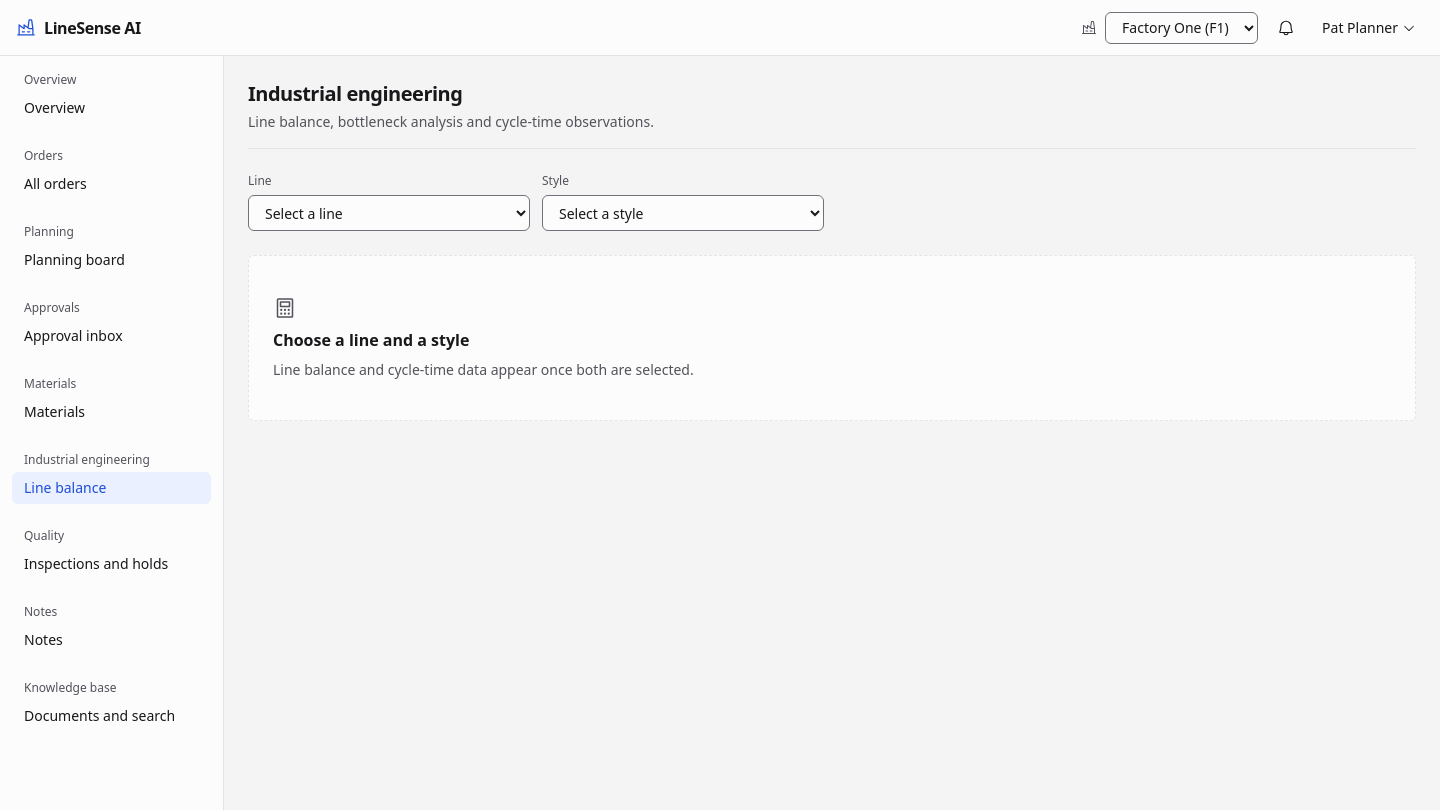
Test: ObservationForm (via IEPage) › records an observation with an Idempotency-Key and lists it for outlier marking
This screenshot has width=1440, height=810.
Select "Line 1 (L1)" in the dropdown labelled "Line" at (389, 213), box [248,195,530,231]
Select "Crew tee (STY-1)" in the dropdown labelled "Style" at (683, 213), box [542,195,824,231]
(page scrolled)
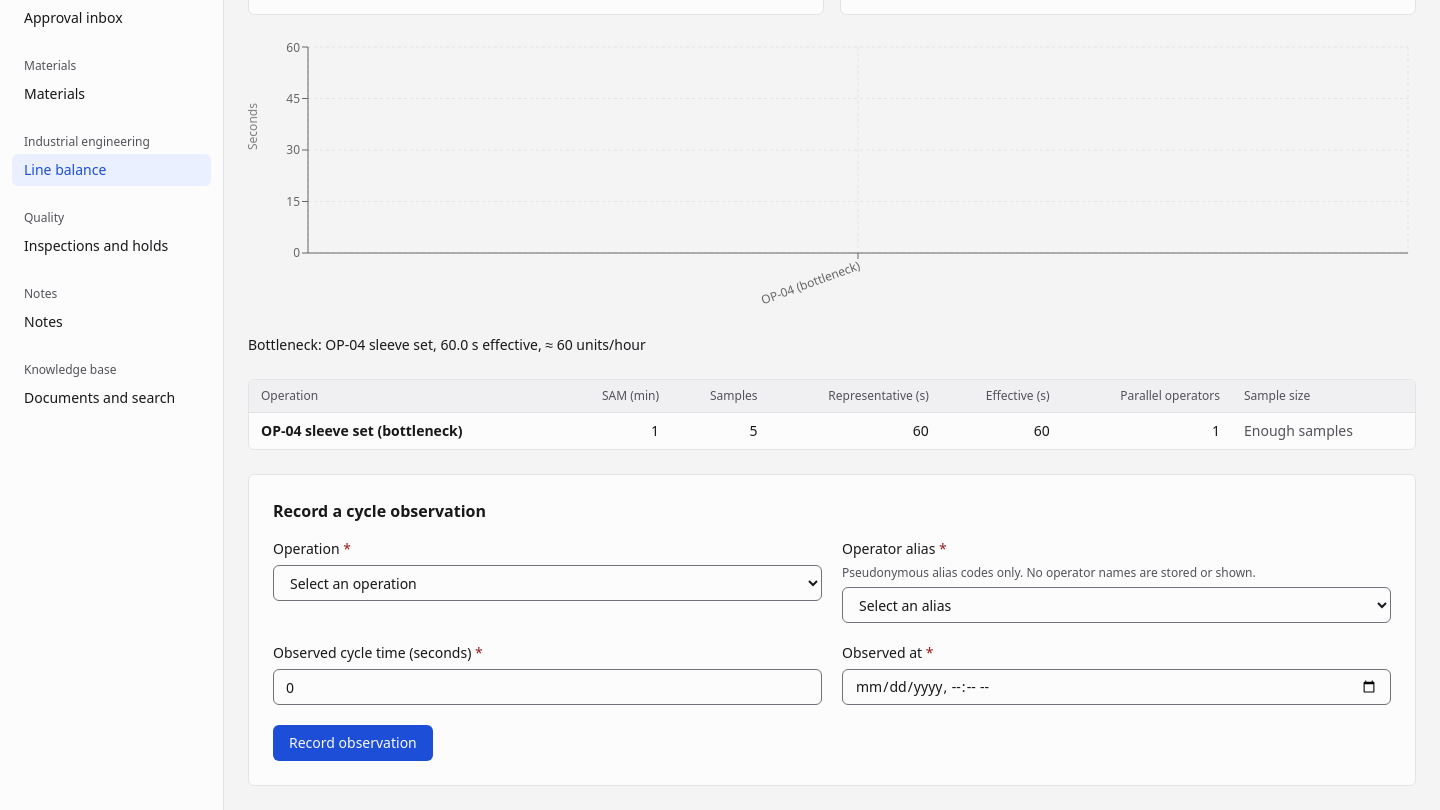
Select "OP-04 sleeve set" in the dropdown labelled "Operation *" at (548, 583), box [273,565,822,601]
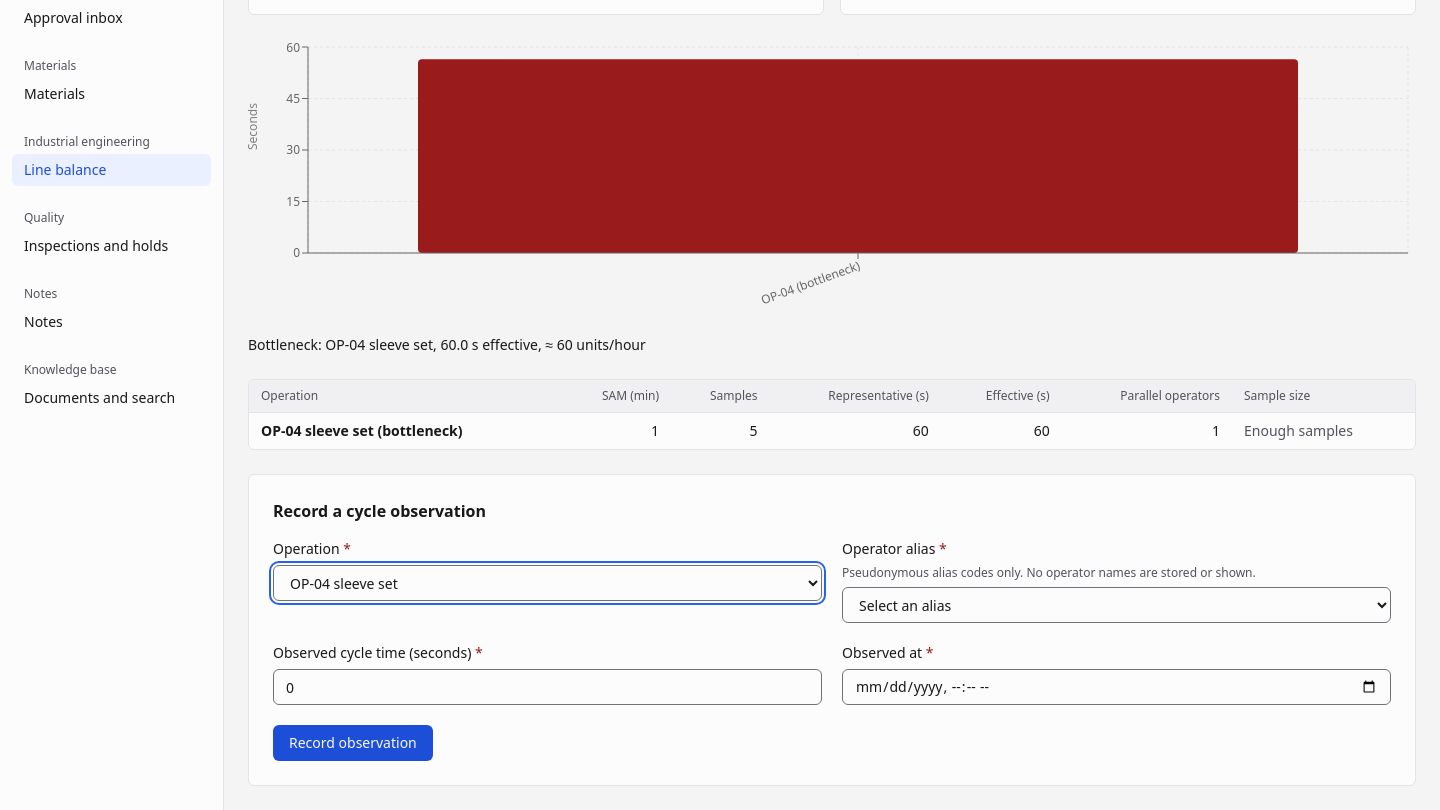
Select "OP-A1" in the dropdown labelled "Operator alias *" at (1116, 605), box [842,587,1391,623]
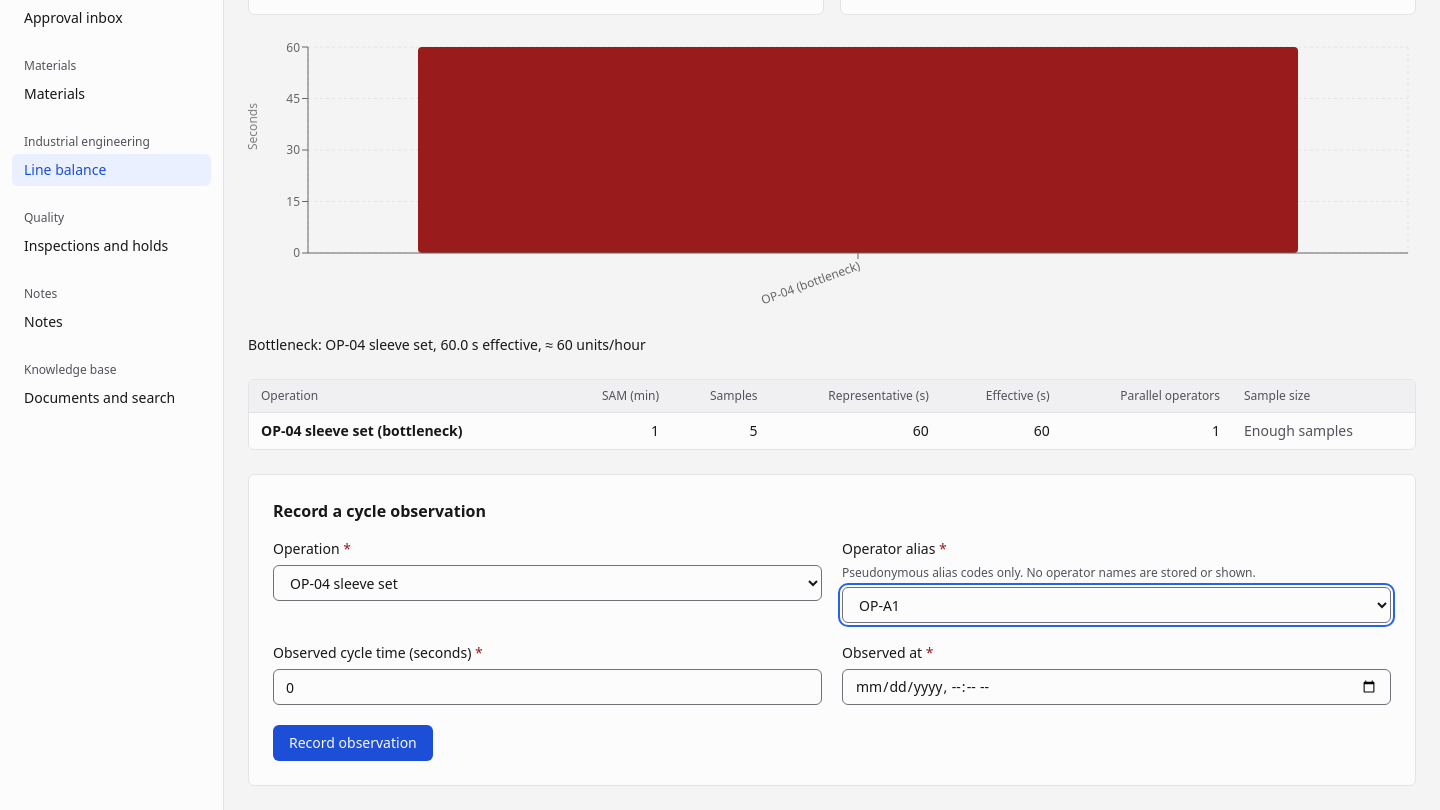
Type "61" into the number field labelled "Observed cycle time (seconds) *" at (548, 687), box [273,669,822,705]
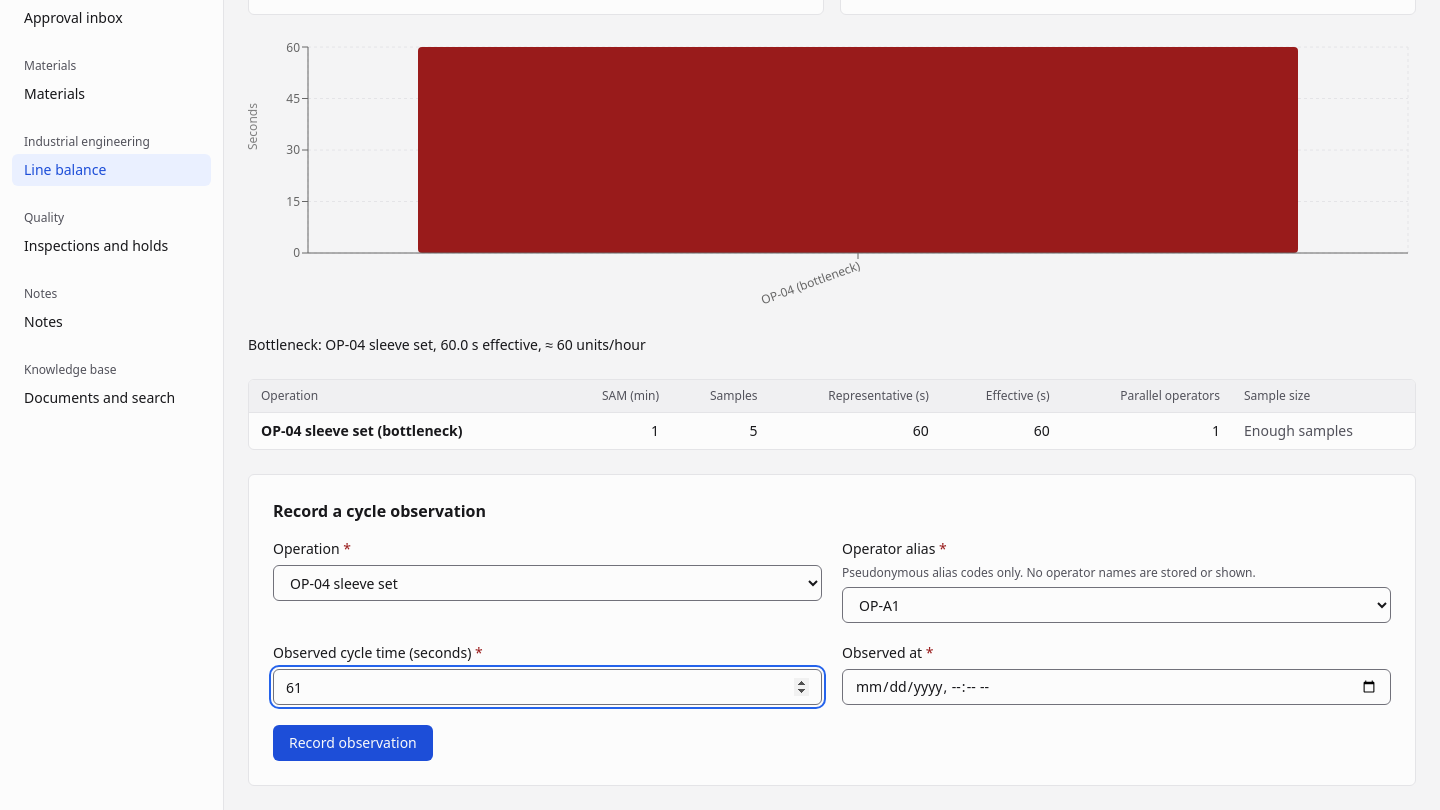
Type "2026-09-20T10:00" into the field labelled "Observed at *" at (1116, 687), box [842,669,1391,705]
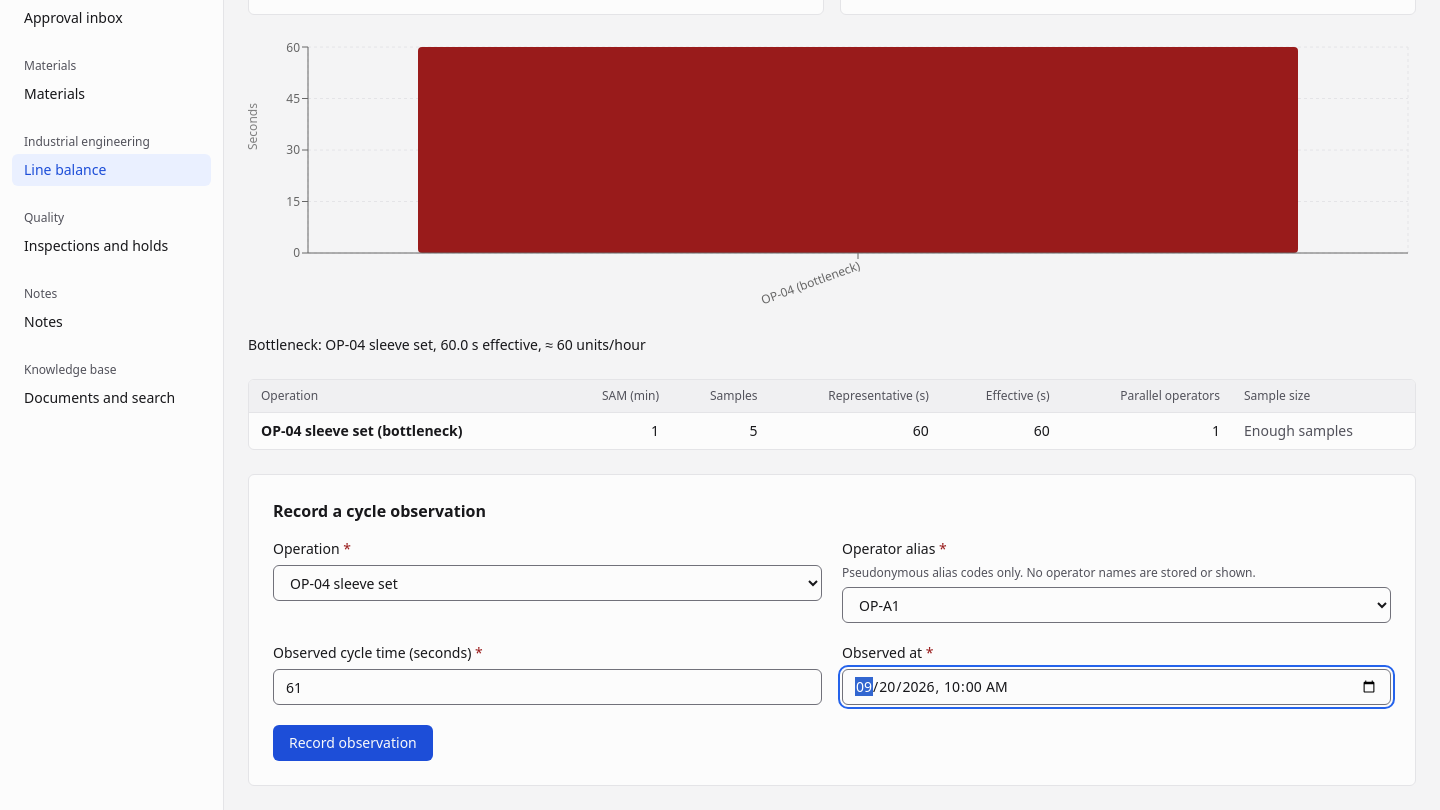
Click the button "Record observation" at (353, 743), box [273,725,433,761]
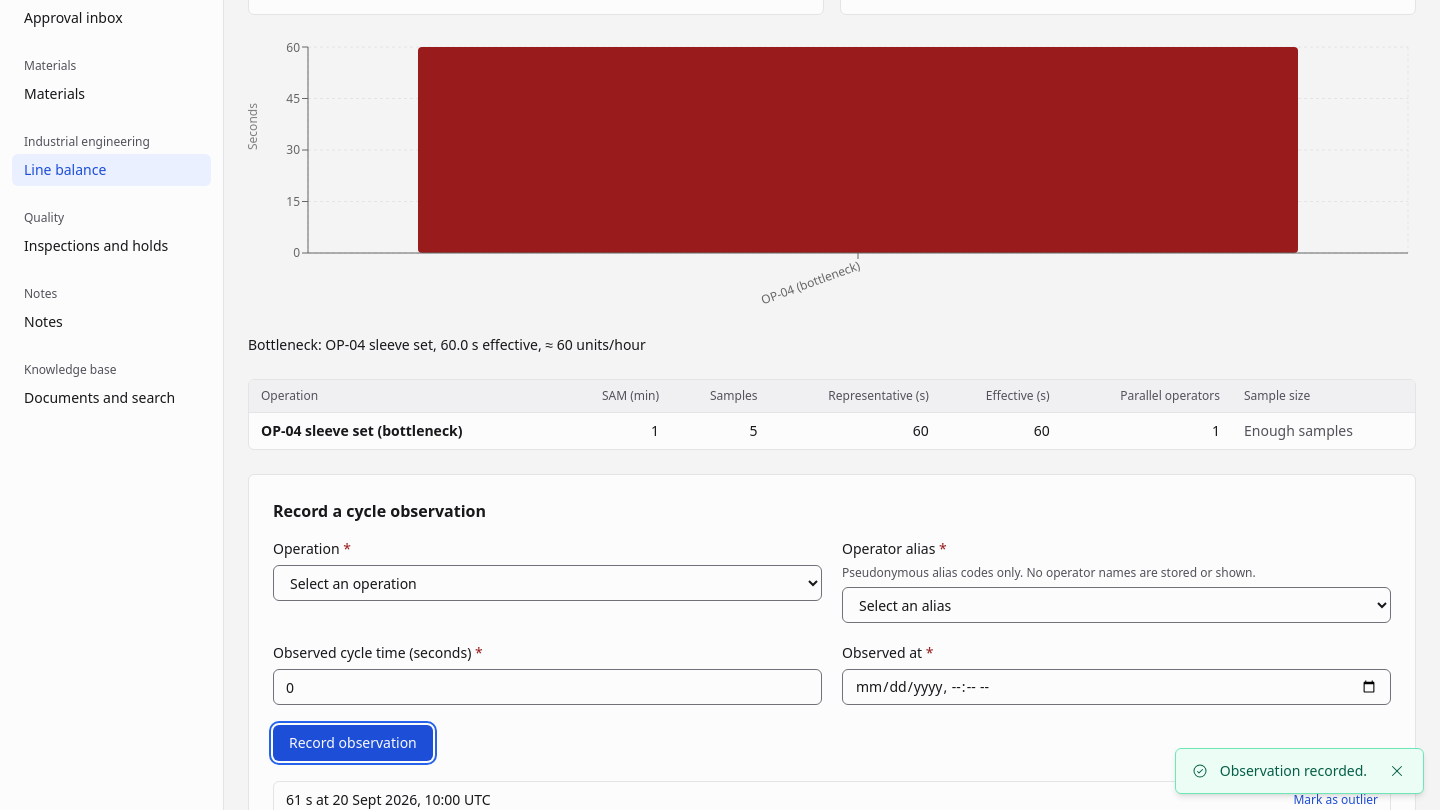
Result: the button "Mark as outlier" is shown at [1293,792,1378,808]
